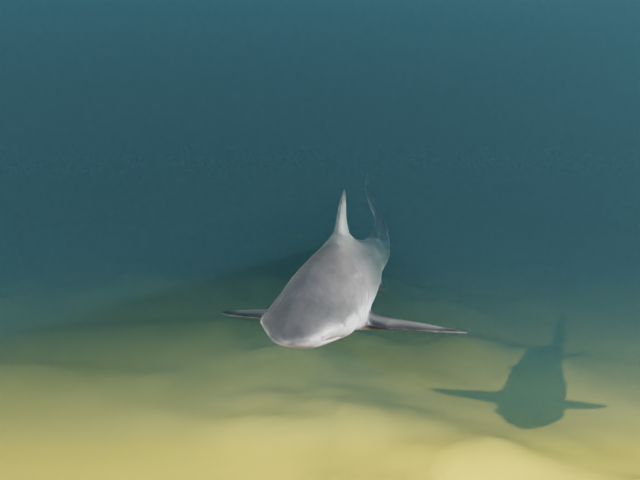Carribean Shark.001: (218, 172, 467, 348)
